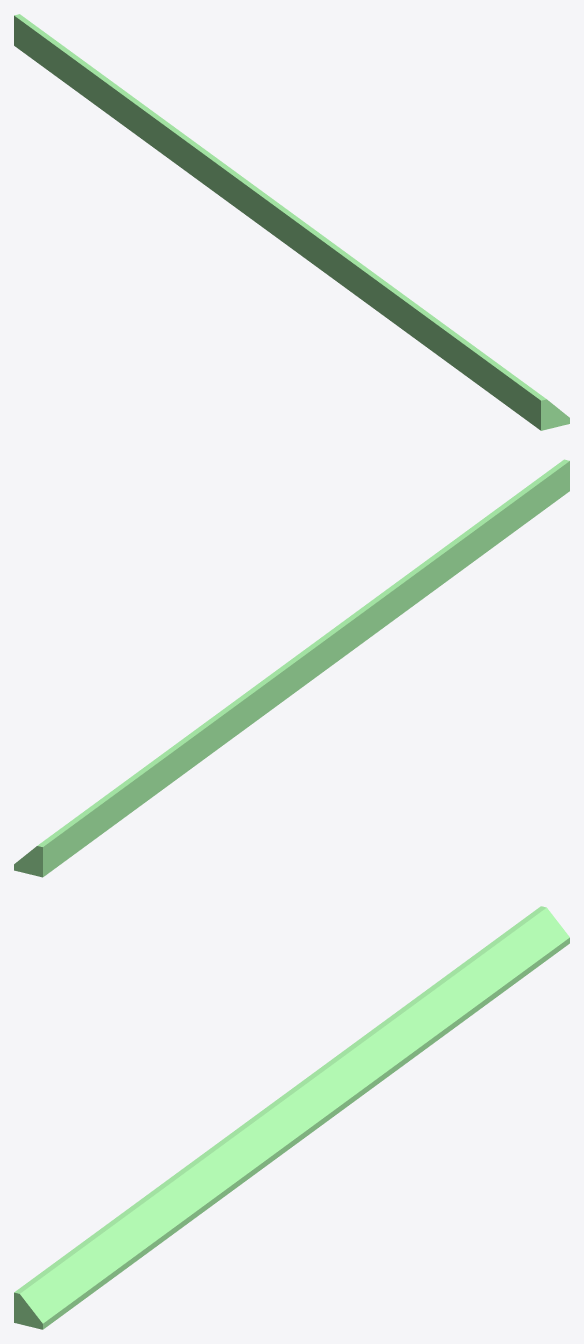
File: dvkr_robot_robot_base_coll_3.dae
3 renders of one model, top to bottom at view 1: azimuth 30°, elevation 25°; view 2: azimuth 150°, elevation 25°; view 3: azimuth 330°, elevation 25°, orthographic.
Parts seen in each view (by area): view 1: Node_0000023514CD64F0; view 2: Node_0000023514CD64F0; view 3: Node_0000023514CD64F0.
Part boxes in pixels (x1,y1,x2,y2): Node_0000023514CD64F0: [14, 14, 569, 430]; Node_0000023514CD64F0: [14, 459, 569, 877]; Node_0000023514CD64F0: [14, 906, 569, 1329].
Size of the model in its own units: 0.051 by 0.05 by 1.58.
